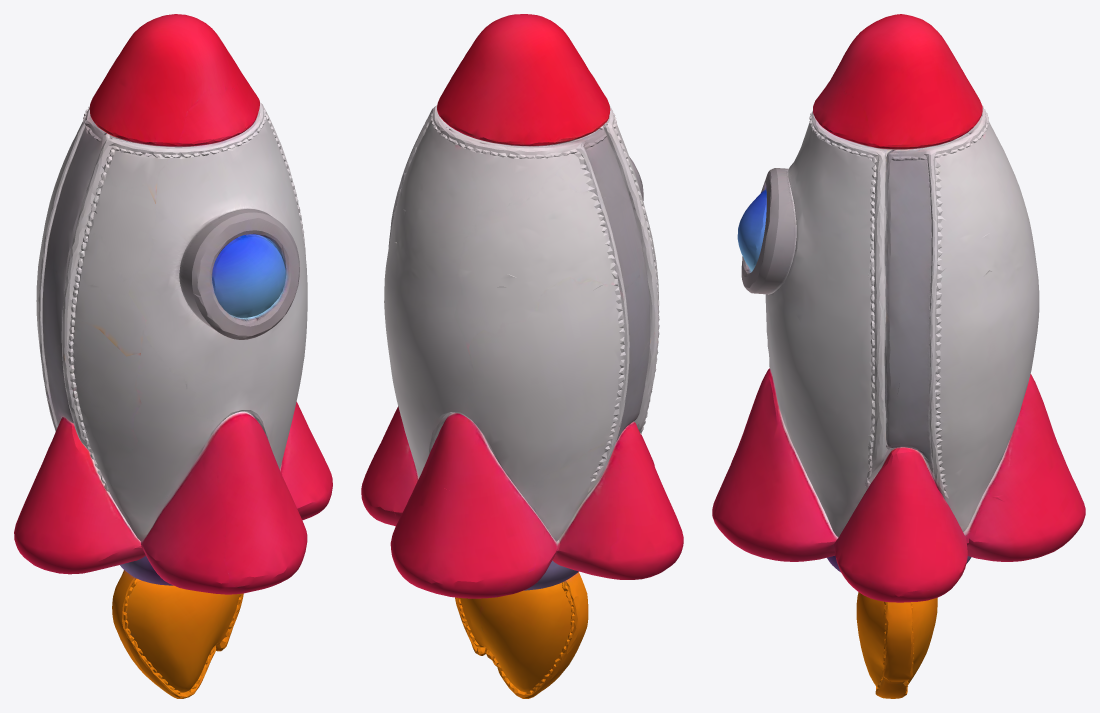
The model's file is rocket.glb.
3 views of the same model, side by side, from view 1: azimuth 30°, elevation 25°; view 2: azimuth 150°, elevation 25°; view 3: azimuth 270°, elevation 25° (orthographic).
Visible parts, largest first — view 1: model; view 2: model; view 3: model.
Boxes of the visible parts, x1,y1,x2,y2 form: model: (14,14,332,698); model: (361,14,683,698); model: (712,14,1085,698).
Bounding box in the file's own units: 0.4743 × 1 × 0.4994.
Materials: 1 (1 with a texture image).
